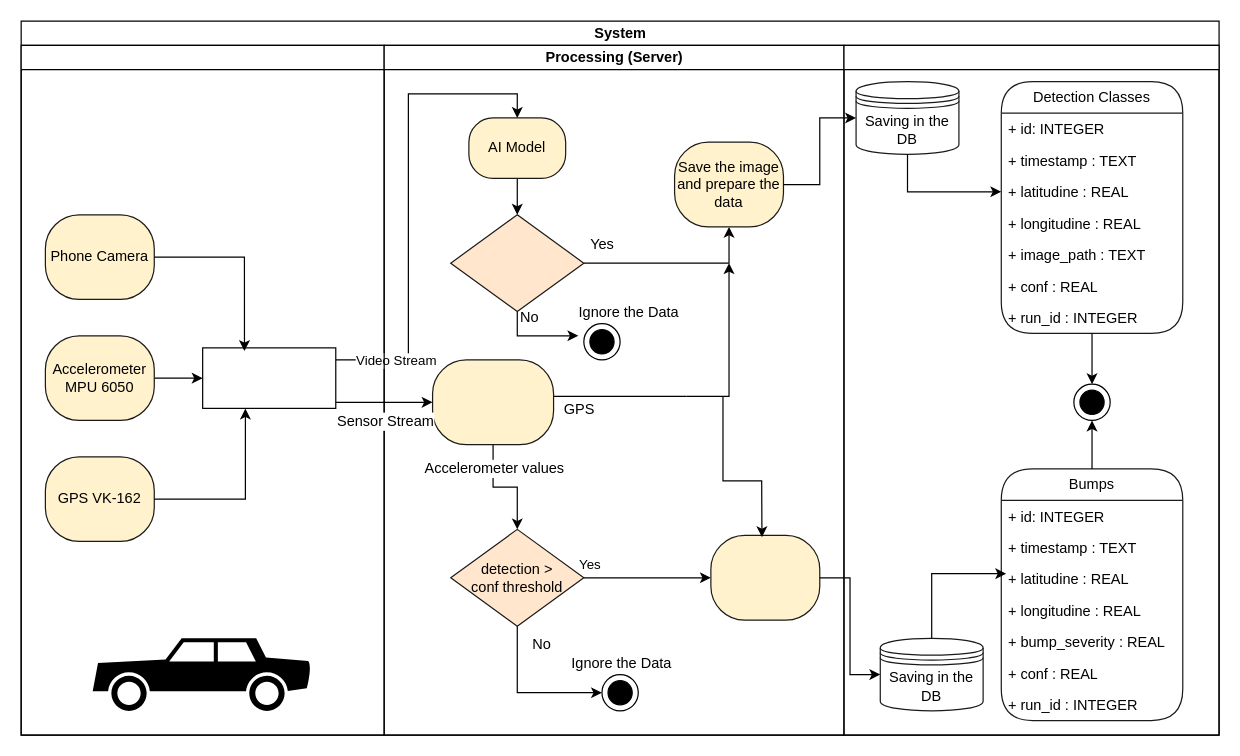
Some shapes in this 1240 by 756 pixel diagram are drawn without their labels. Here are the shapes that lost their labels. From the top down, the box of each, then its label:
(450, 214, 584, 312): detection > conf threshold?
(20, 44, 384, 735): Mobile Unit
(201, 347, 336, 408): Raspberry Pi 5
(843, 44, 1219, 735): Database
(431, 359, 554, 445): Extract the coordinates and the accelerometer data
(710, 534, 820, 620): Prepare the data for saving
